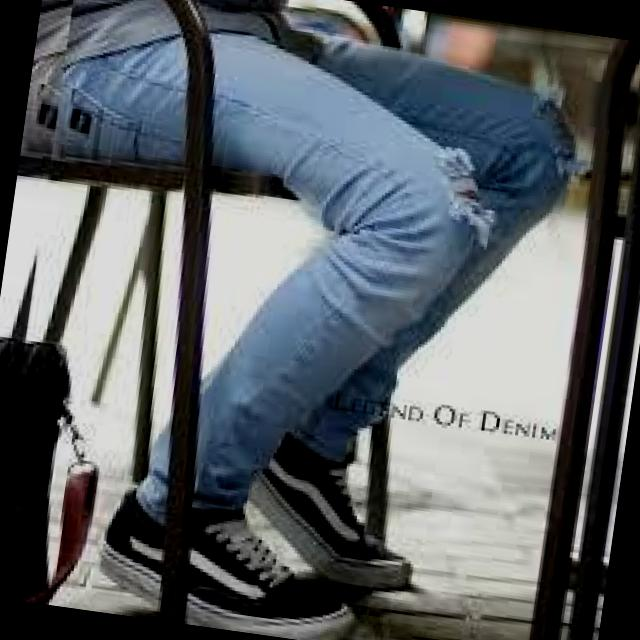pants: (15, 0, 565, 541)
